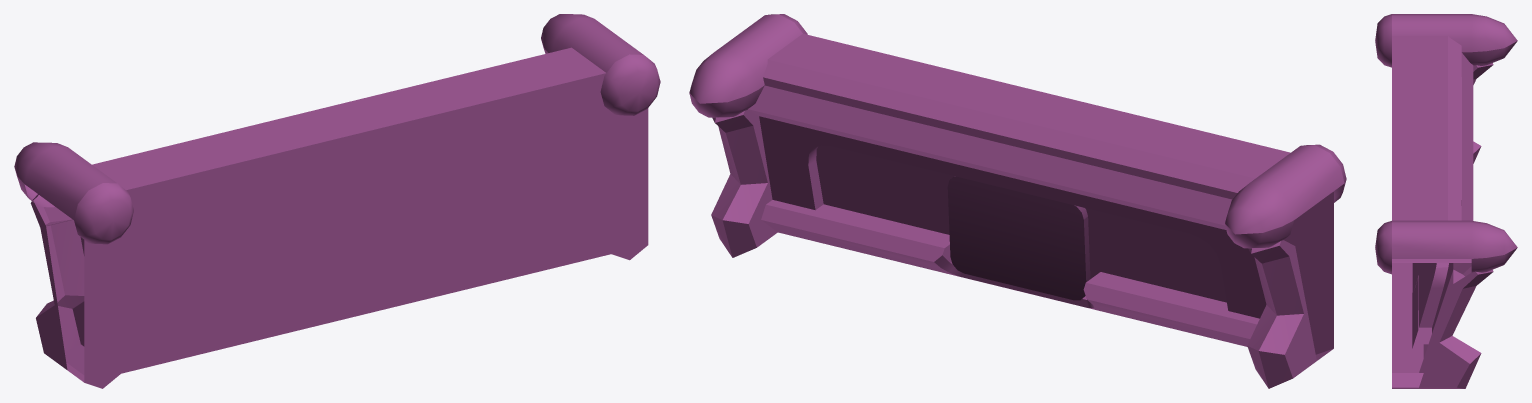
The model's file is obj_rewards_carbumper.fbx.
3 views of the same model, side by side, from view 1: azimuth 30°, elevation 25°; view 2: azimuth 150°, elevation 25°; view 3: azimuth 270°, elevation 25° (orthographic). The views are drawn at different scales.
Parts seen in each view (by area): view 1: cb_part2_lp.002, cb_part5_lp.005; view 2: cb_part2_lp.002, cb_part5_lp.005, cb_part5_lp.006; view 3: cb_part2_lp.002, cb_part5_lp.005.
Part boxes in pixels (<box>): cb_part2_lp.002: <box>92,47,611,373</box>; cb_part5_lp.005: <box>14,14,660,388</box>; cb_part2_lp.002: <box>748,33,1296,346</box>; cb_part5_lp.005: <box>689,14,1346,388</box>; cb_part5_lp.006: <box>947,176,1090,300</box>; cb_part2_lp.002: <box>1392,36,1473,372</box>; cb_part5_lp.005: <box>1375,14,1517,388</box>.
Size of the model in its own units: 6.63 by 2.23 by 1.74.
